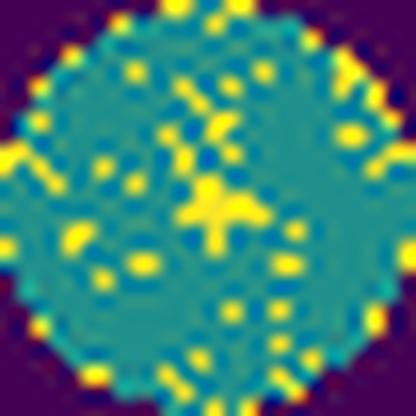Center: (167, 164, 269, 256)
